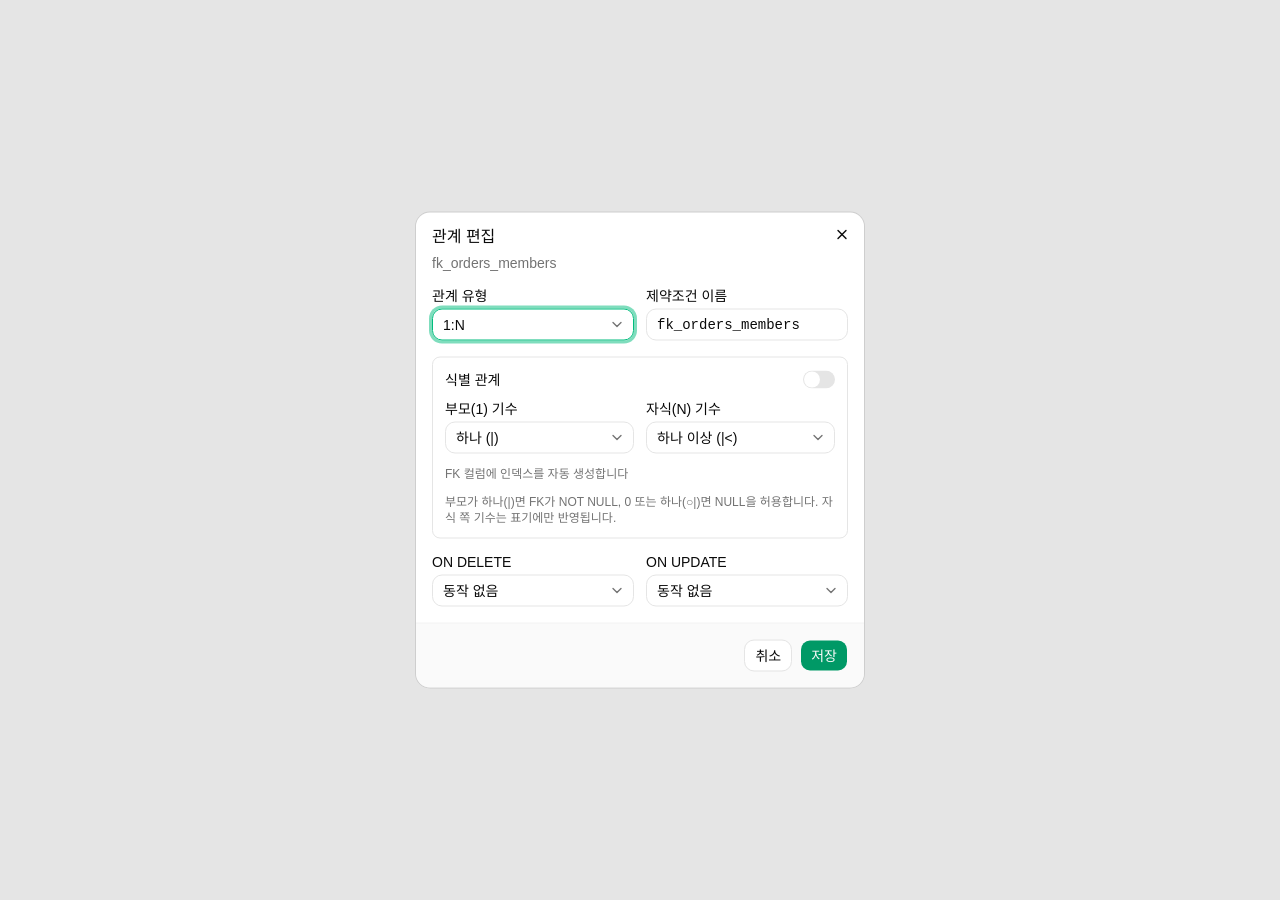
Test: RelationshipDialog — 편집 › 편집에서 식별로 전환하면 PK 편입 안내가 보인다 — 속성 전환은 제약 동기화된다
The width and height of the screenshot is (1280, 900).
Expected: the text "자식 테이블 기본 키에 포함" is not shown
Click the switch named "식별 관계".
click(819, 380)  # box [803,370,835,389]
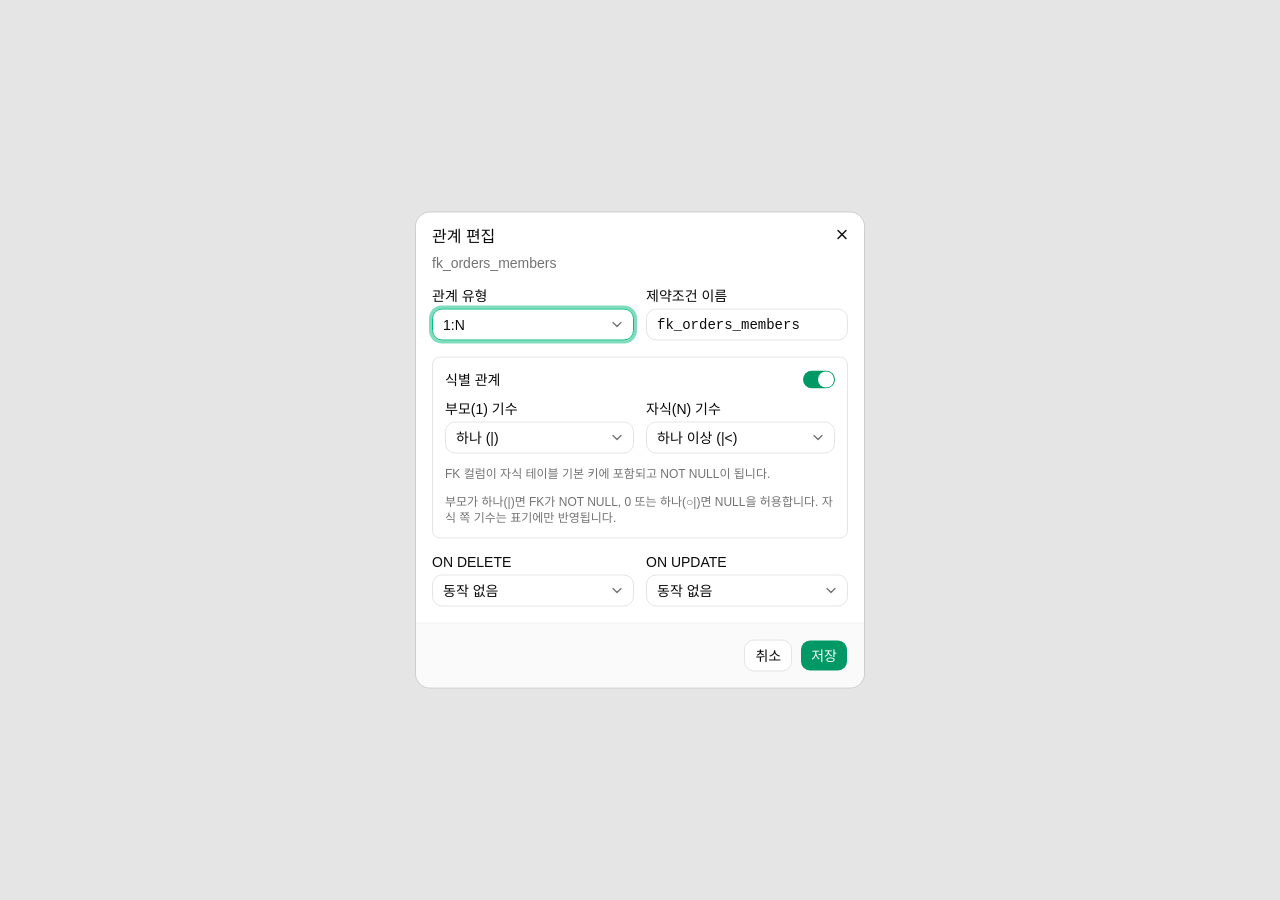
Expected: the text "FK 컬럼이 자식 테이블 기본 키에 포함되고 NOT NULL이 됩니다." is shown, [445,466,770,480]
